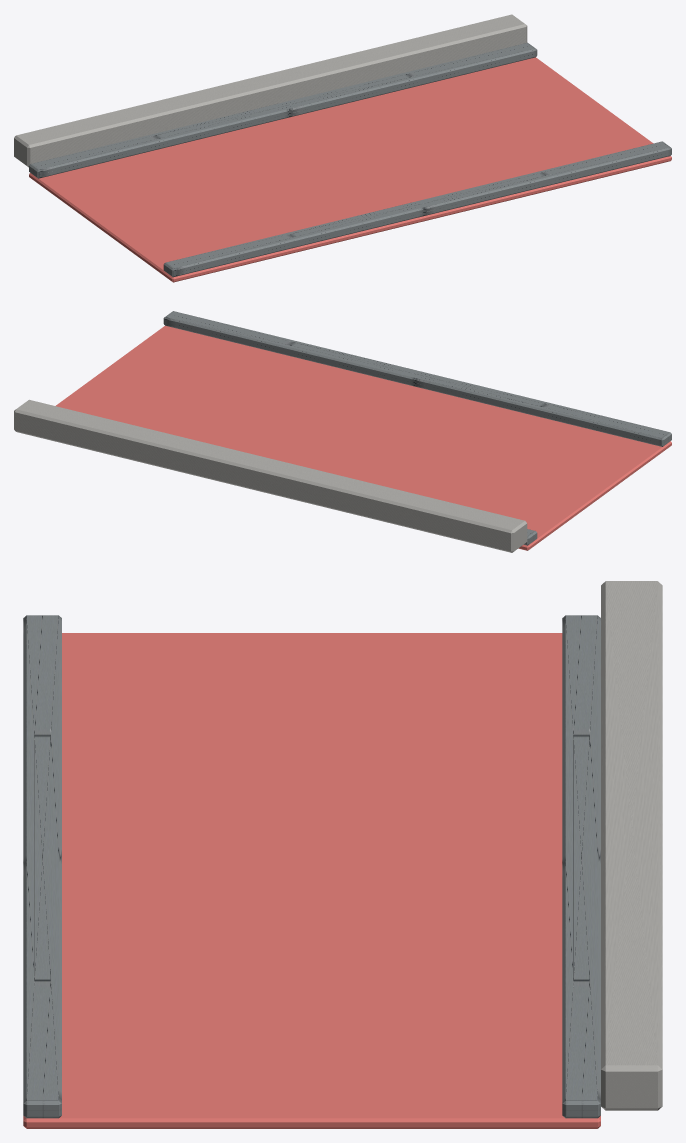
File: japanese-school-and-city-street-running-track-edge-2432639a__30075.glb
The picture shows the model from 3 angles, top to bottom: view 1: azimuth 30°, elevation 25°; view 2: azimuth 150°, elevation 25°; view 3: azimuth 270°, elevation 25°; orthographic projection. The views are drawn at different scales.
Parts seen in each view (by area): view 1: running-track-edge; view 2: running-track-edge; view 3: running-track-edge.
Boxes of the visible parts, x1,y1,x2,y2 form: running-track-edge: (14, 14, 671, 282); running-track-edge: (14, 311, 671, 552); running-track-edge: (23, 581, 662, 1128).
Size of the model in its own units: 3 by 0.18 by 1.66.
3 materials, 2 textured.
